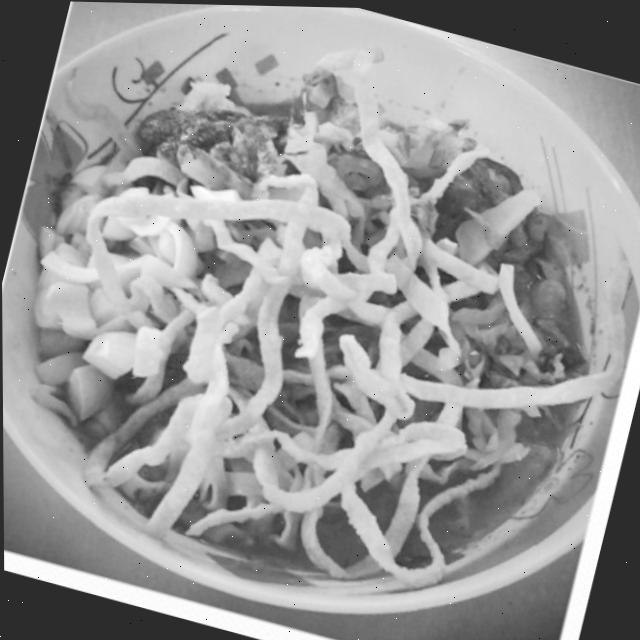面条主食: (0, 16, 634, 639)
